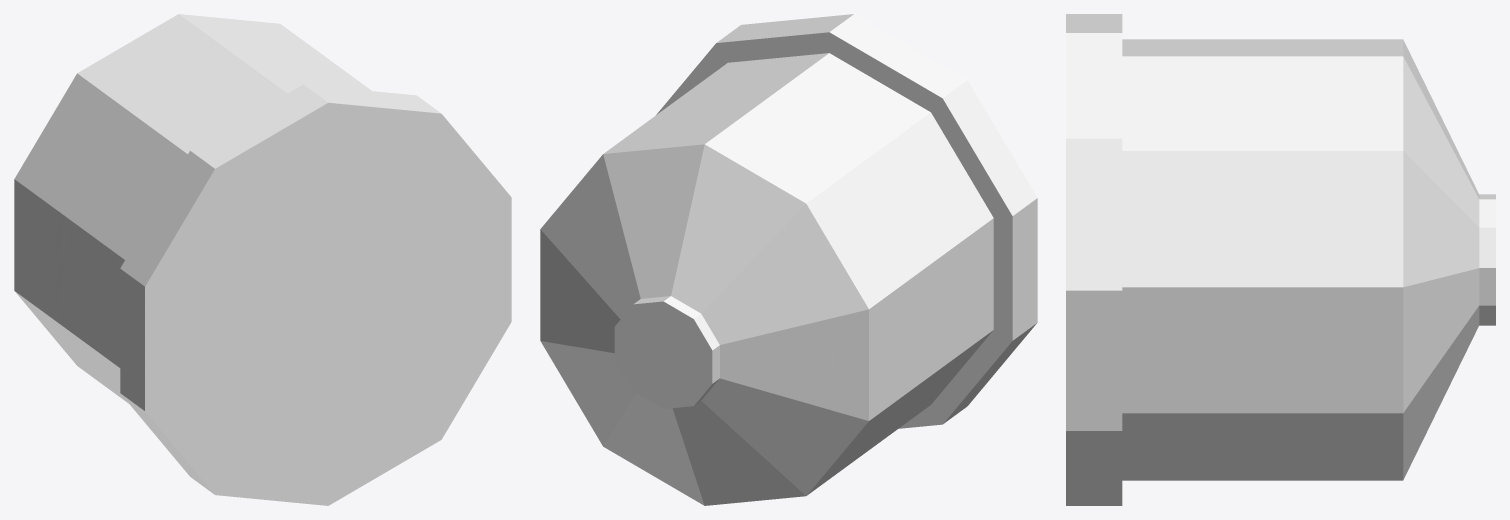
Rendered from Boss_Tail.obj.
3 renders of one model, left to right at view 1: azimuth 30°, elevation 25°; view 2: azimuth 150°, elevation 25°; view 3: azimuth 270°, elevation 25°, orthographic. The views are drawn at different scales.
Parts seen in each view (by area): view 1: 円柱; view 2: 円柱; view 3: 円柱.
Boxes of the visible parts, bbox=[...] form: 円柱: bbox=[14, 14, 511, 505]; 円柱: bbox=[540, 14, 1037, 505]; 円柱: bbox=[1066, 14, 1495, 505].
Bounding box in the file's own units: 1.06 × 1.11 × 0.9561.
1 material, 1 textured.
